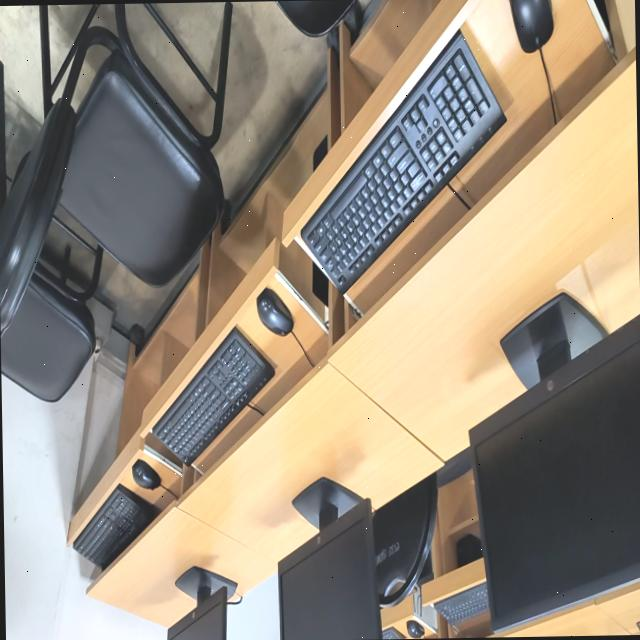Chair: (0, 2, 231, 339), (0, 216, 102, 402), (372, 473, 437, 607), (275, 0, 356, 37)
Cpu: (312, 262, 328, 306), (312, 137, 327, 167)
Keyboard: (300, 31, 506, 293), (151, 327, 274, 464), (72, 484, 156, 569), (432, 582, 488, 626), (382, 627, 404, 639)
Monitor: (469, 293, 640, 631), (278, 477, 381, 640), (167, 567, 236, 640)
Mouse: (508, 0, 556, 123), (257, 288, 293, 336), (132, 459, 161, 489), (406, 621, 424, 638)
